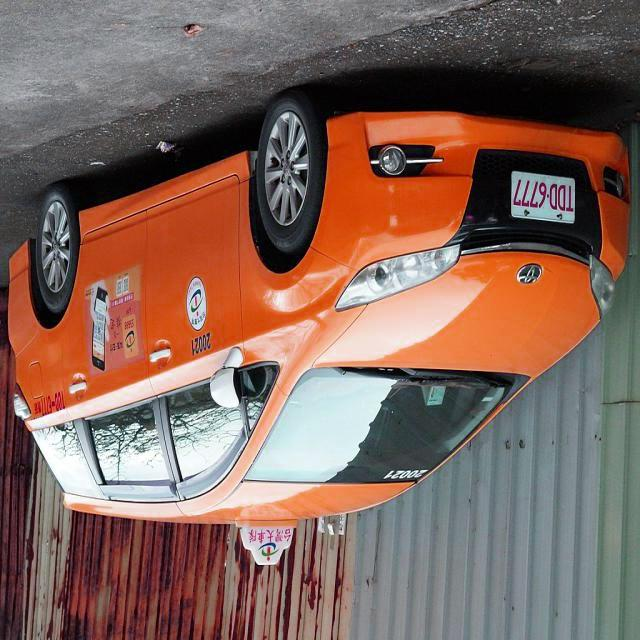taxi: (2, 63, 639, 605)
